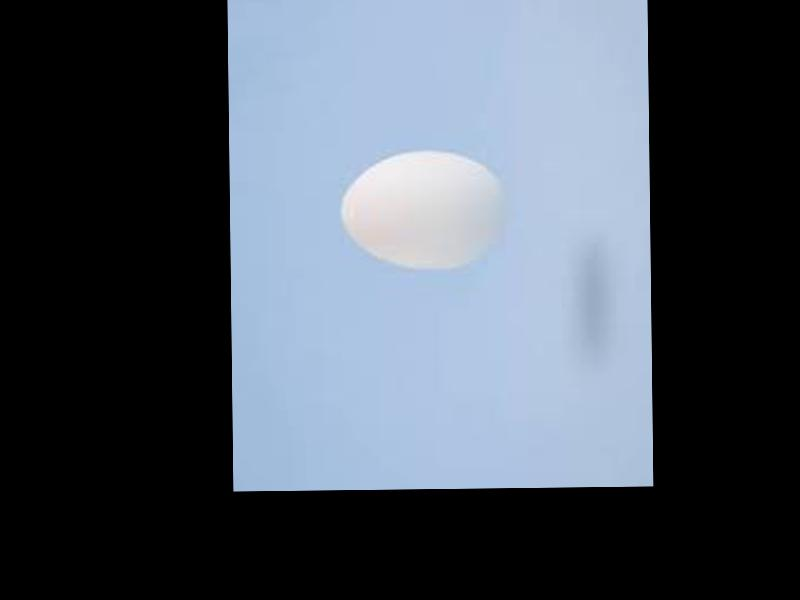Eggs: (339, 149, 508, 271)
